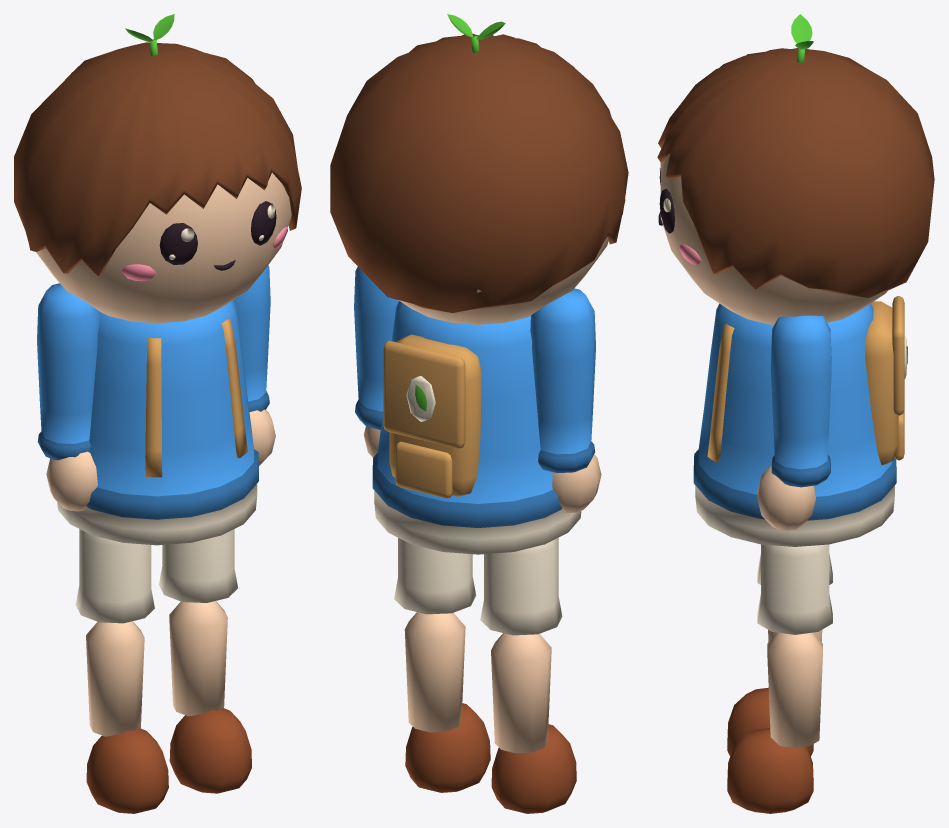
Rendered from hero-tall.glb.
3 views of the same model, side by side, from view 1: azimuth 30°, elevation 25°; view 2: azimuth 150°, elevation 25°; view 3: azimuth 270°, elevation 25° (orthographic). The views are drawn at different scales.
Parts seen in each view (by area): view 1: head, body, leg-left, leg-right, arm-left, arm-right, head-leaf; view 2: head, body, leg-left, leg-right, arm-left, arm-right, head-leaf; view 3: head, body, leg-right, arm-right, leg-left, head-leaf.
Boxes of the visible parts, x1=… form: head: x1=14, y1=42, x2=301, y2=323; body: x1=57, y1=300, x2=258, y2=545; leg-left: x1=75, y1=529, x2=168, y2=813; leg-right: x1=159, y1=529, x2=251, y2=793; arm-left: x1=37, y1=283, x2=100, y2=511; arm-right: x1=233, y1=265, x2=275, y2=465; head-leaf: x1=125, y1=14, x2=174, y2=55; head: x1=330, y1=33, x2=628, y2=324; body: x1=372, y1=301, x2=581, y2=554; leg-left: x1=480, y1=537, x2=576, y2=813; leg-right: x1=394, y1=538, x2=490, y2=792; arm-left: x1=530, y1=288, x2=601, y2=512; arm-right: x1=354, y1=266, x2=398, y2=457; head-leaf: x1=447, y1=14, x2=505, y2=52; head: x1=657, y1=48, x2=934, y2=324; body: x1=693, y1=296, x2=907, y2=546; leg-right: x1=727, y1=544, x2=832, y2=813; arm-right: x1=757, y1=315, x2=831, y2=530; leg-left: x1=727, y1=554, x2=832, y2=756; head-leaf: x1=791, y1=14, x2=813, y2=63.
Bounding box in the file's own units: 0.9357 × 2.71 × 0.9004.
